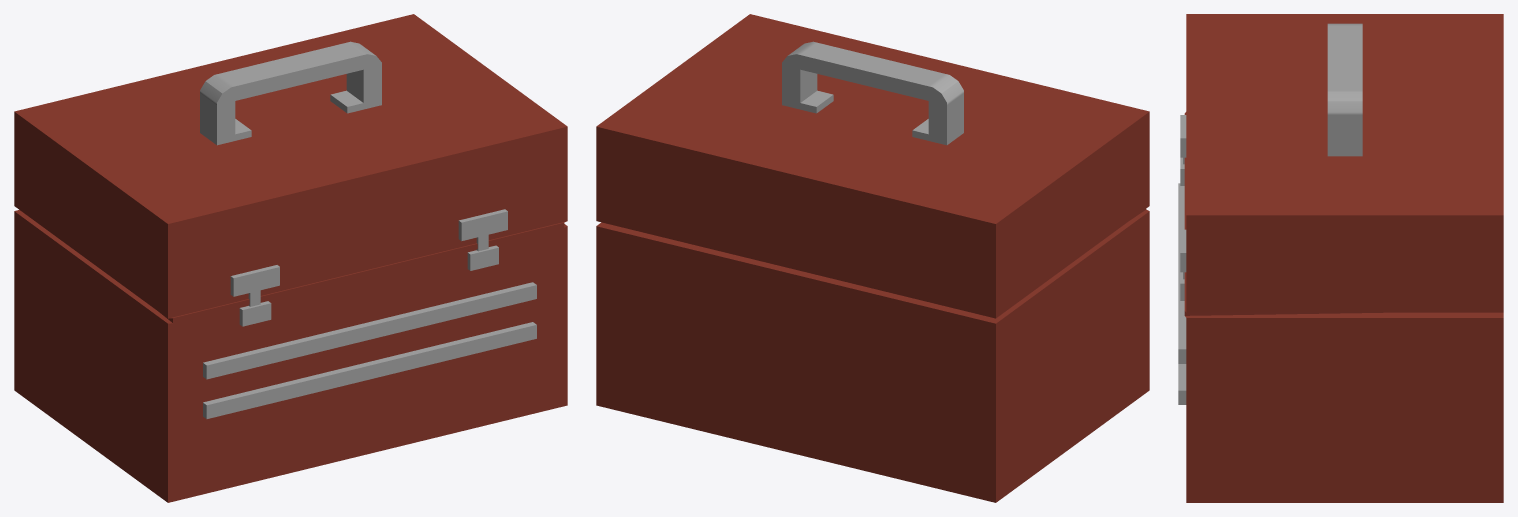
Rendered from crude_toolbox.fbx.
3 renders of one model, left to right at view 1: azimuth 30°, elevation 25°; view 2: azimuth 150°, elevation 25°; view 3: azimuth 270°, elevation 25°, orthographic. The views are drawn at different scales.
Visible parts, largest first — view 1: Toolbox, handle, Drawer1, Drawer, Lock_Lock; view 2: Toolbox, handle; view 3: Toolbox, handle, Drawer, Lock_Lock, Drawer1.
Boxes of the visible parts, left/top/right/bottom form: Toolbox: left=14, top=14, right=567, bottom=502; handle: left=200, top=41, right=381, bottom=145; Drawer1: left=203, top=322, right=536, bottom=418; Drawer: left=203, top=282, right=536, bottom=379; Lock_Lock: left=230, top=209, right=507, bottom=326; Toolbox: left=596, top=14, right=1149, bottom=502; handle: left=782, top=41, right=963, bottom=145; Toolbox: left=1184, top=14, right=1503, bottom=502; handle: left=1327, top=23, right=1362, bottom=156; Drawer: left=1178, top=183, right=1186, bottom=363; Lock_Lock: left=1180, top=115, right=1186, bottom=300; Drawer1: left=1178, top=364, right=1186, bottom=404.
Size of the model in its own units: 30 by 23.91 by 20.51.
